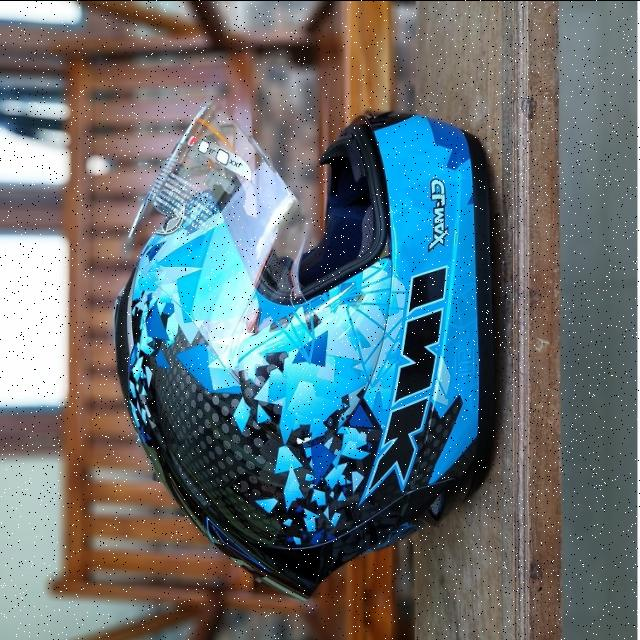Helmet: (113, 95, 496, 599)
